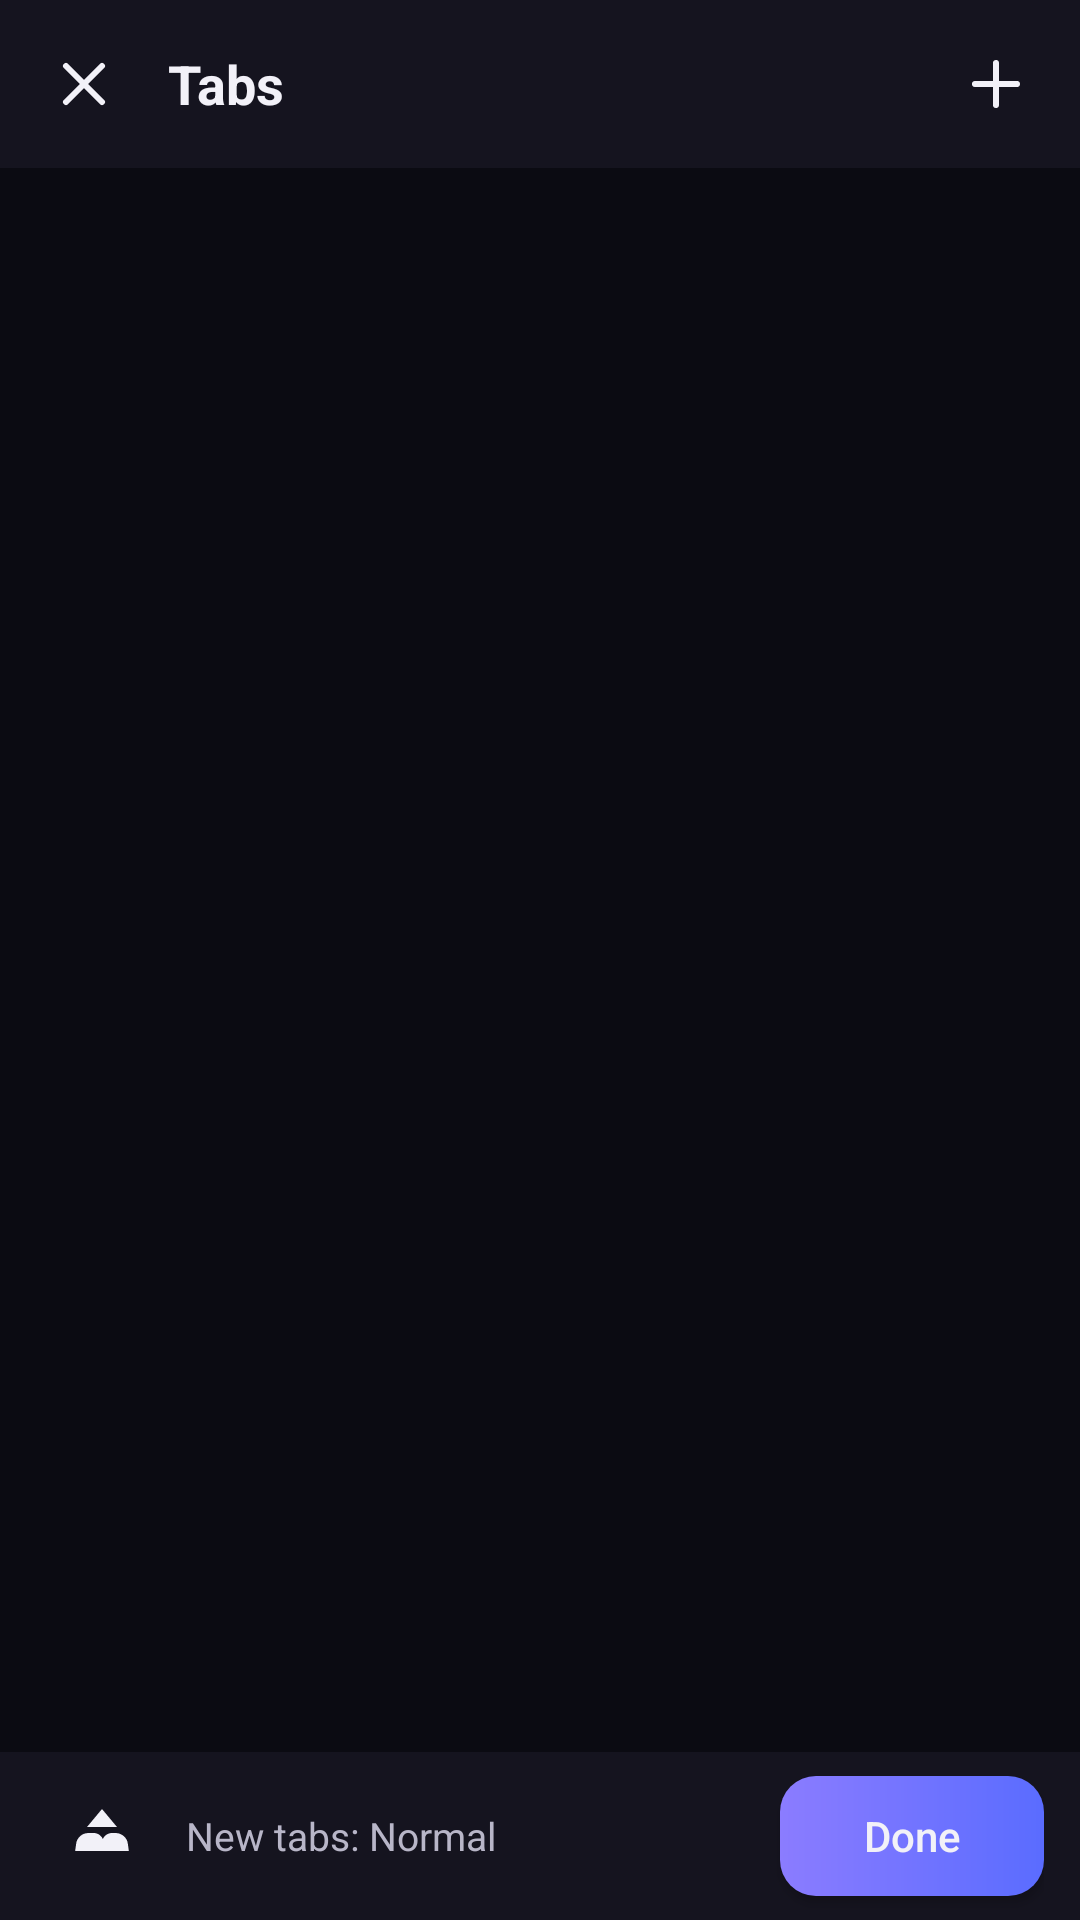

Where to tap for icons on this 1080px×1920px app screen, as [x,y]:
Close: [84,84]
New tab: [996,84]
Toggle incognito: [102,1830]
